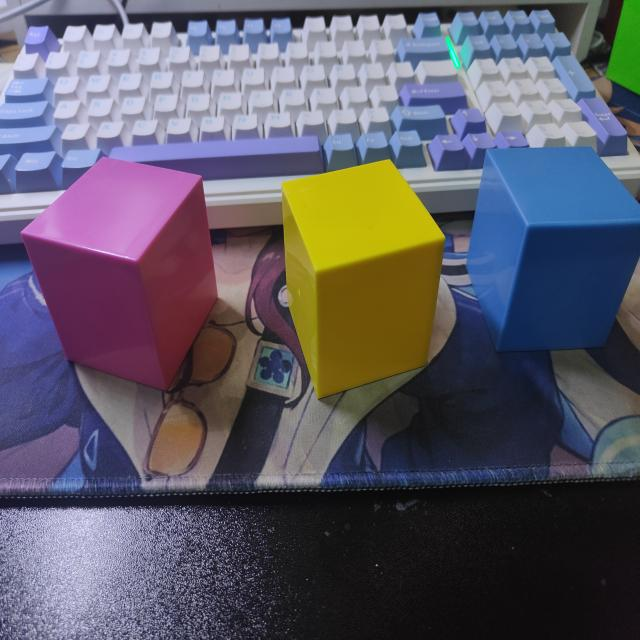blue: (467, 148, 640, 355)
pink: (19, 158, 218, 394)
yellow: (280, 160, 446, 403)
